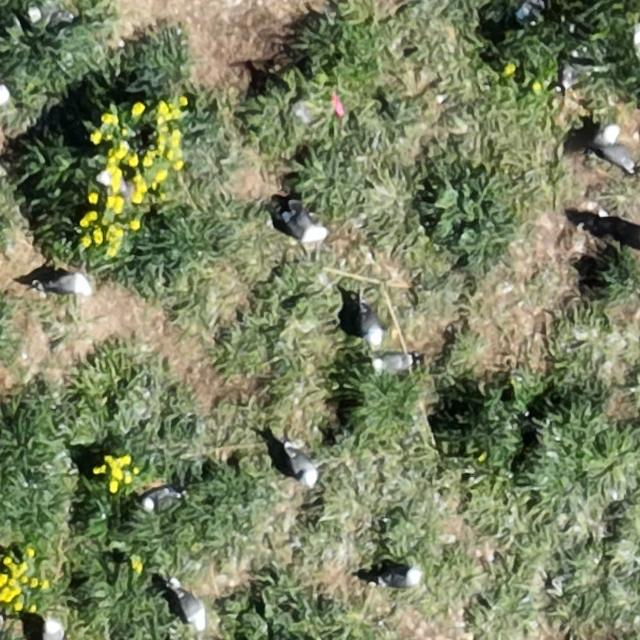umineko: (286, 215, 326, 244), (178, 591, 207, 629), (290, 450, 317, 486), (46, 272, 90, 293), (606, 146, 636, 173), (375, 353, 415, 372), (382, 569, 422, 588), (363, 308, 383, 343), (144, 489, 174, 512), (44, 618, 64, 640), (0, 82, 8, 106)
